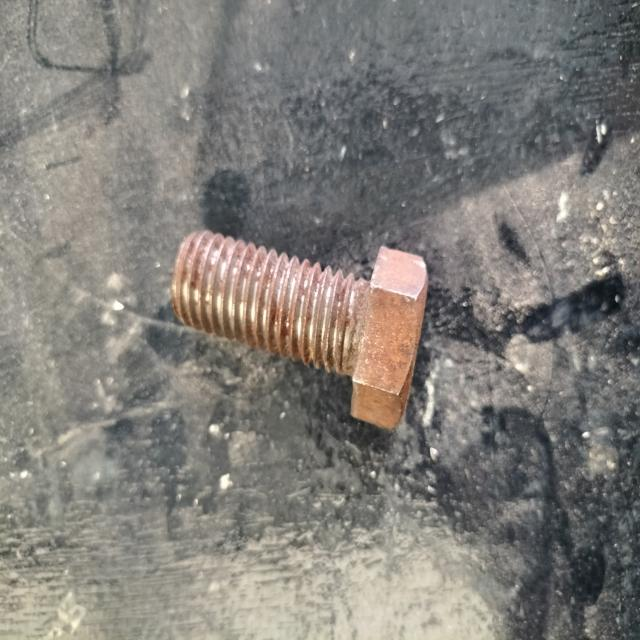bolt: (172, 226, 428, 427)
